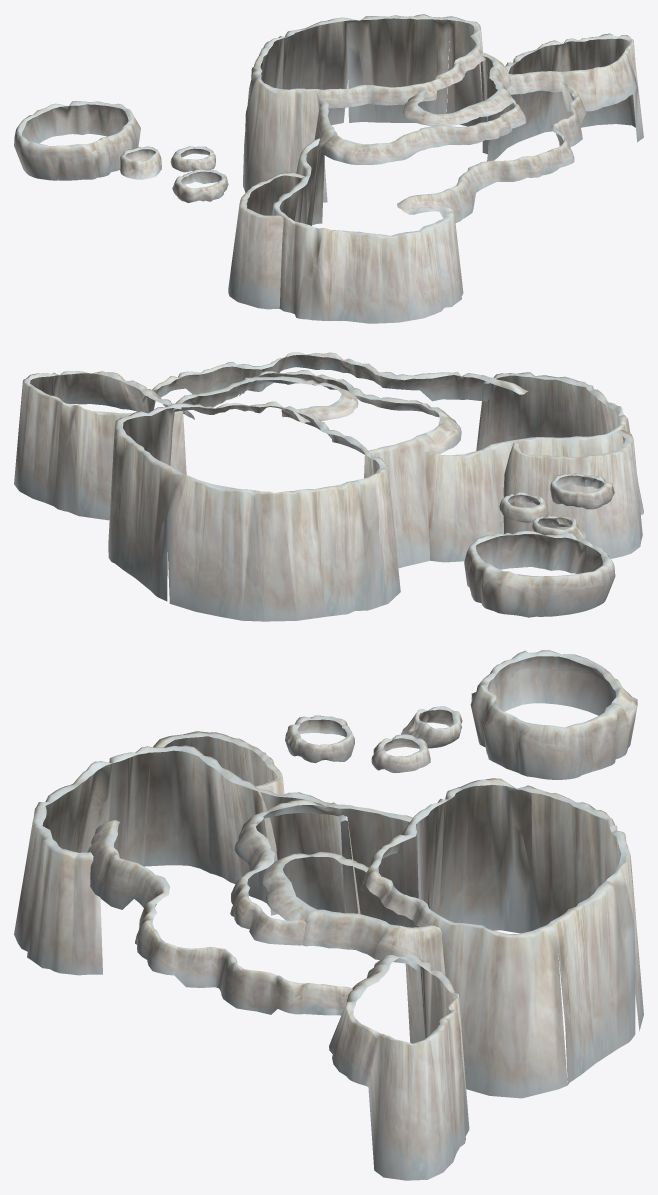
The model's file is M5_T_shanbii003.FBX.
3 views of the same model, one above another, from view 1: azimuth 30°, elevation 25°; view 2: azimuth 150°, elevation 25°; view 3: azimuth 270°, elevation 25° (orthographic). The views are drawn at different scales.
Visible parts, largest first — view 1: M5_T_shanbii003; view 2: M5_T_shanbii003; view 3: M5_T_shanbii003.
Boxes of the visible parts, bbox=[...] form: M5_T_shanbii003: bbox=[14, 14, 643, 323]; M5_T_shanbii003: bbox=[14, 352, 643, 621]; M5_T_shanbii003: bbox=[14, 650, 643, 1180].
Size of the model in its own units: 8580 by 1606 by 5749.
